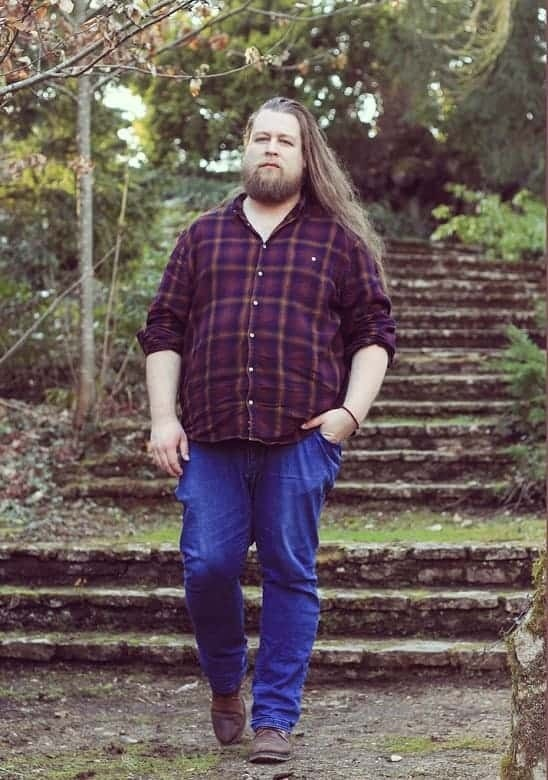face_no_mask: (238, 99, 314, 199)
